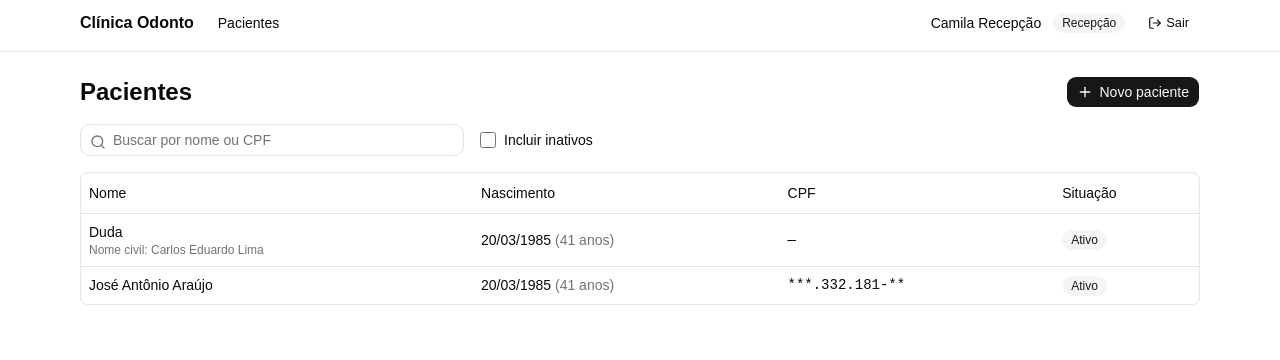
Test: lista de pacientes › pode incluir inativos
Expected: the text "Duda" is shown, x1=89 y1=224 x2=122 y2=240
Click the checkbox labelled "Incluir inativos". click: x=488, y=140
box: x1=480 y1=132 x2=496 y2=148
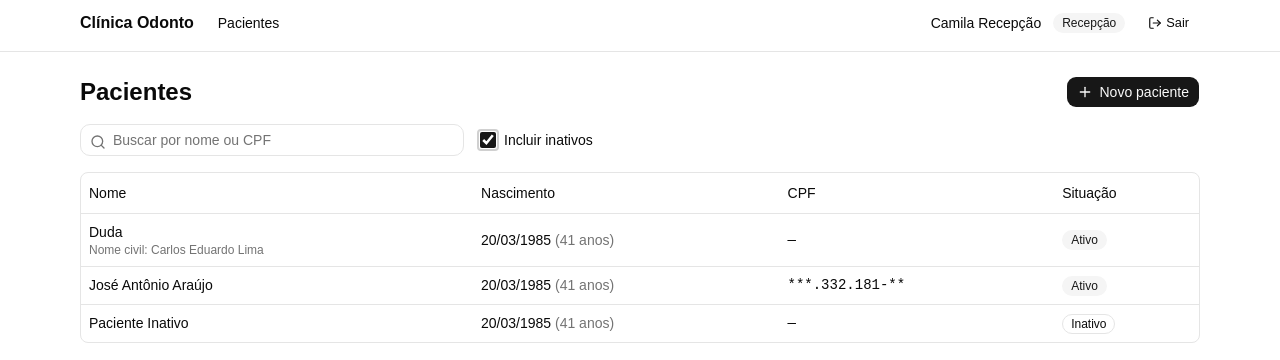
Result: the text "Paciente Inativo" is shown at x1=89 y1=315 x2=189 y2=331
